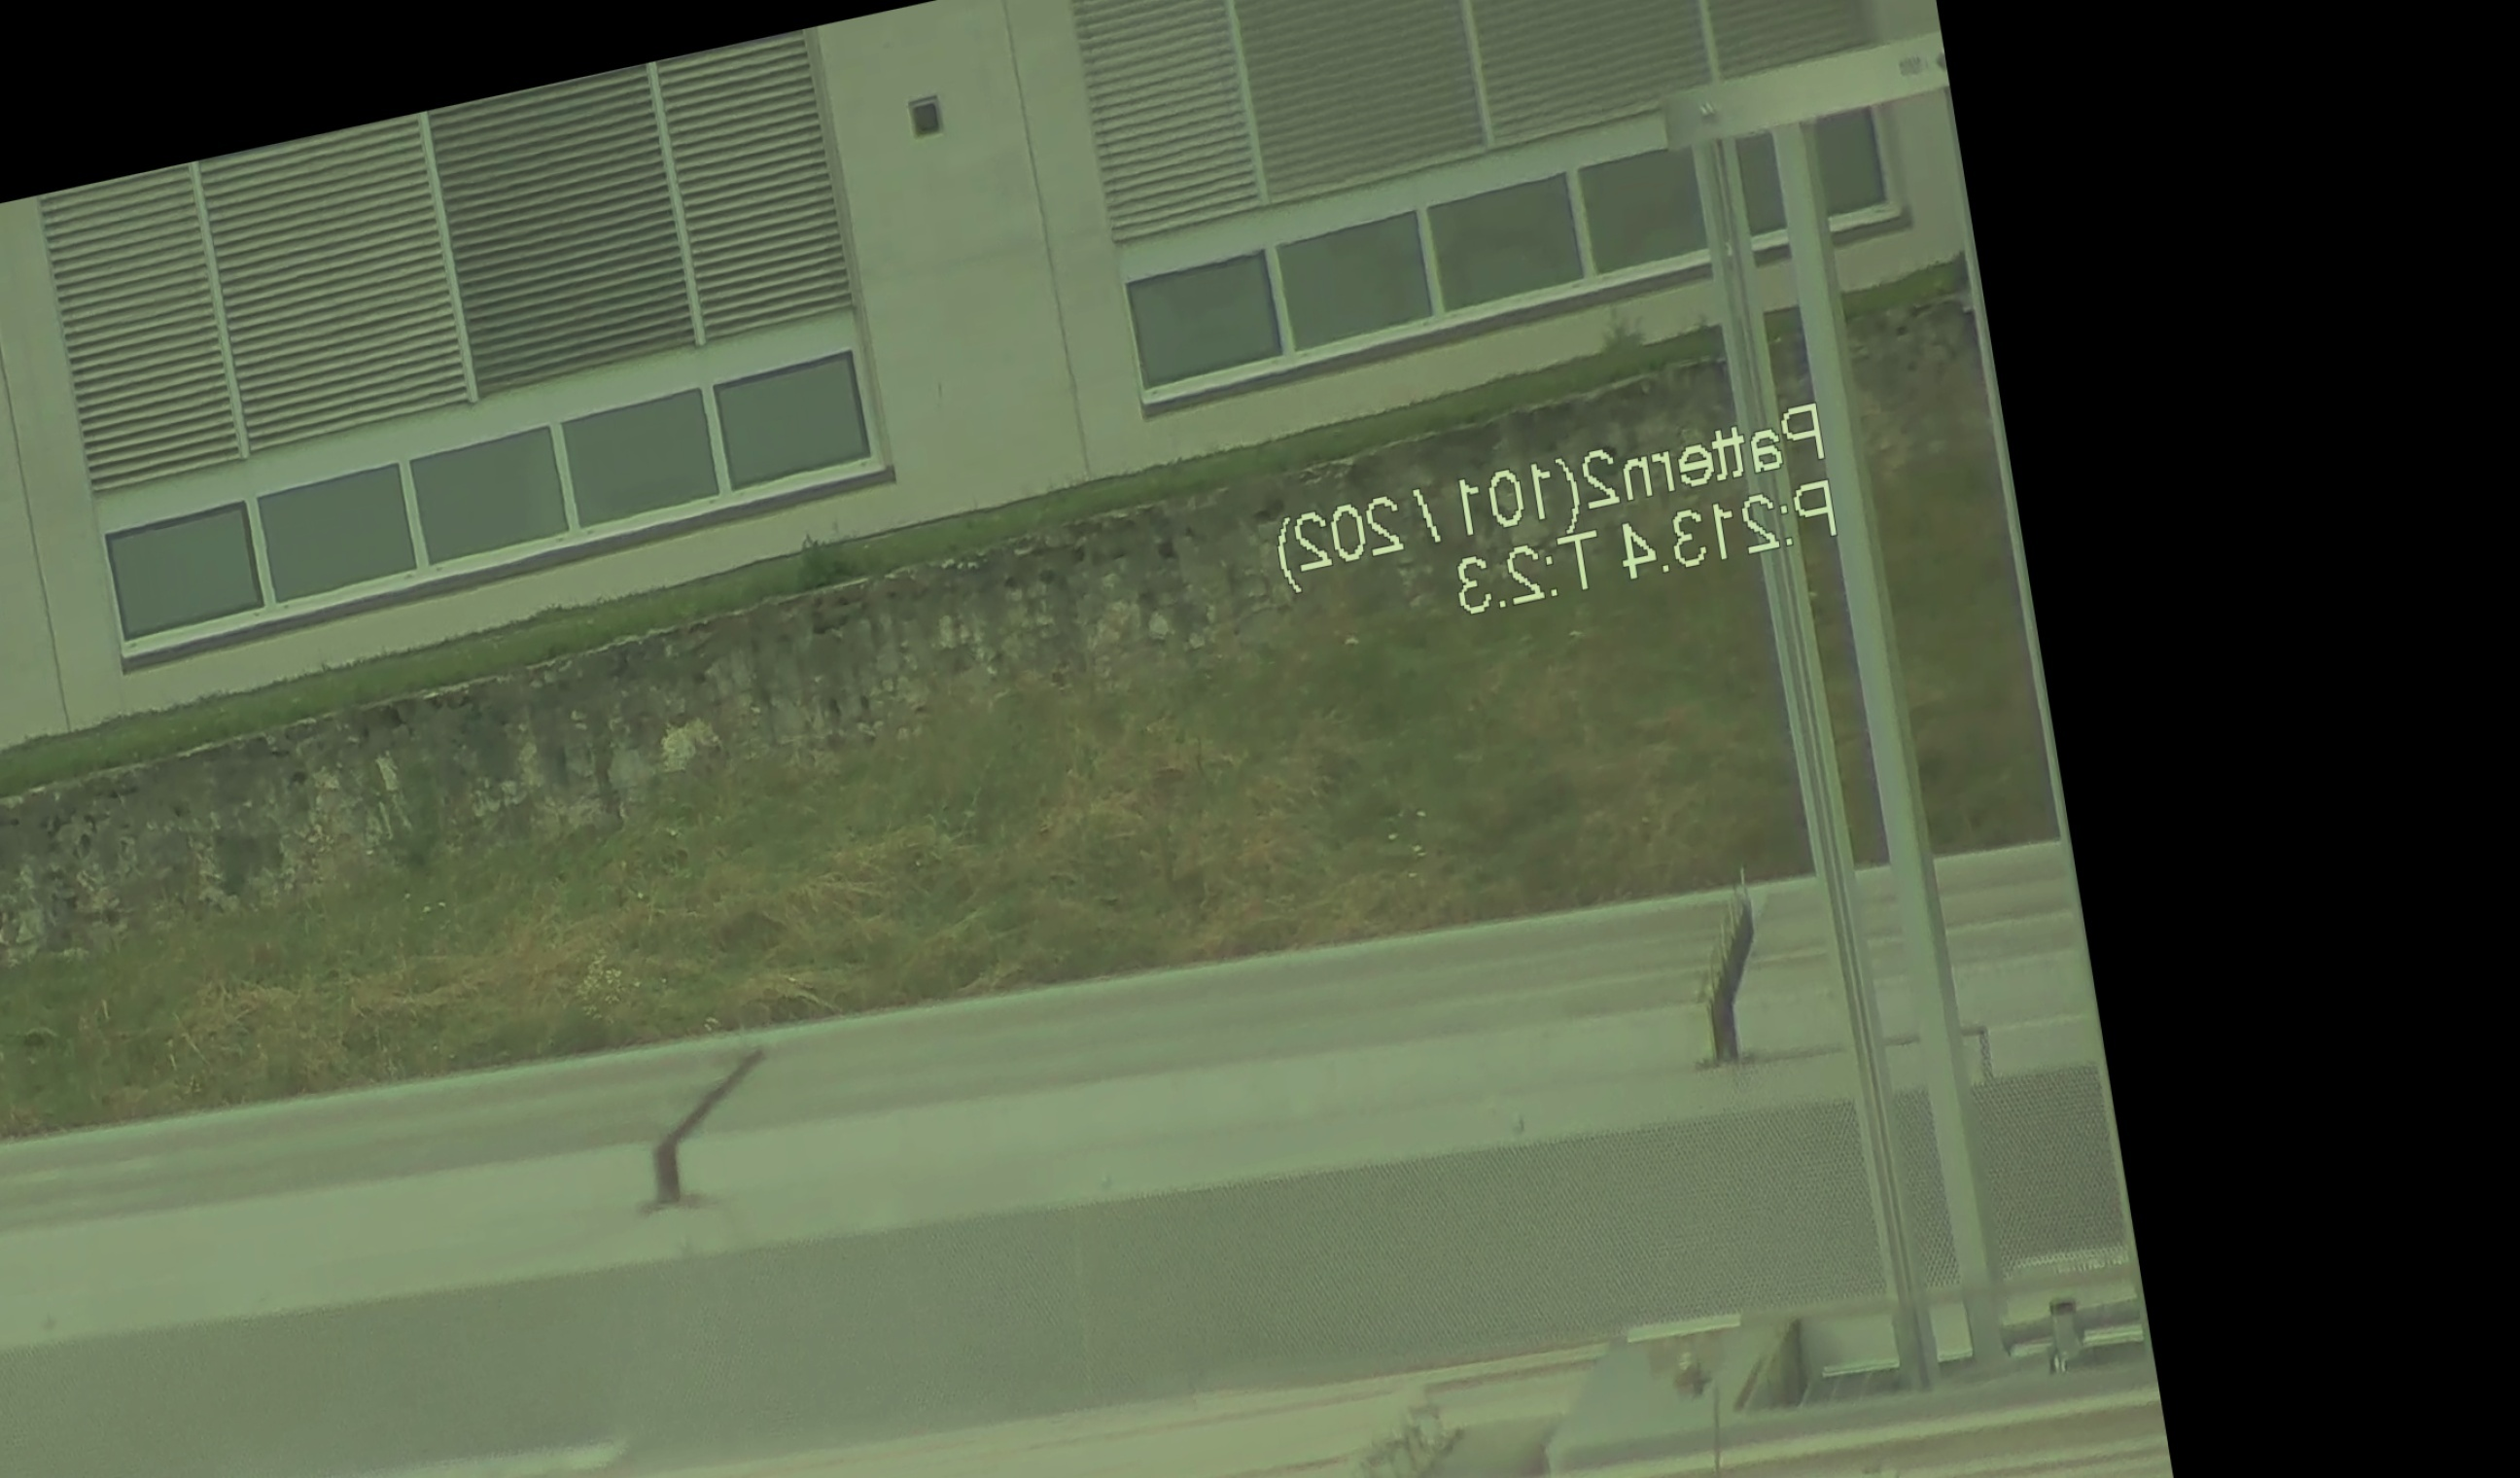Other: (1664, 864, 1792, 1084)
